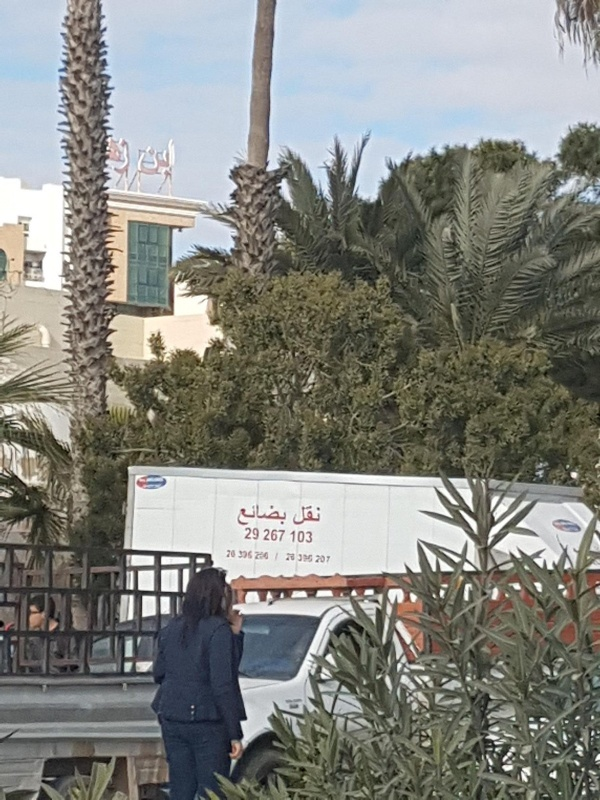text: (161, 138, 177, 179), (145, 138, 160, 179), (113, 137, 128, 175), (101, 137, 112, 175), (241, 502, 256, 528), (257, 502, 272, 528), (273, 502, 287, 528), (305, 504, 321, 526), (294, 504, 304, 526), (290, 529, 304, 544), (139, 138, 144, 179), (273, 528, 286, 543), (289, 552, 304, 565), (305, 552, 320, 565), (129, 137, 134, 175), (241, 550, 256, 562), (274, 551, 288, 563), (227, 550, 240, 562), (257, 550, 270, 562), (245, 527, 256, 540), (321, 552, 332, 565), (264, 528, 272, 543), (305, 529, 313, 544), (238, 502, 240, 528), (257, 527, 259, 540), (286, 552, 288, 565)
